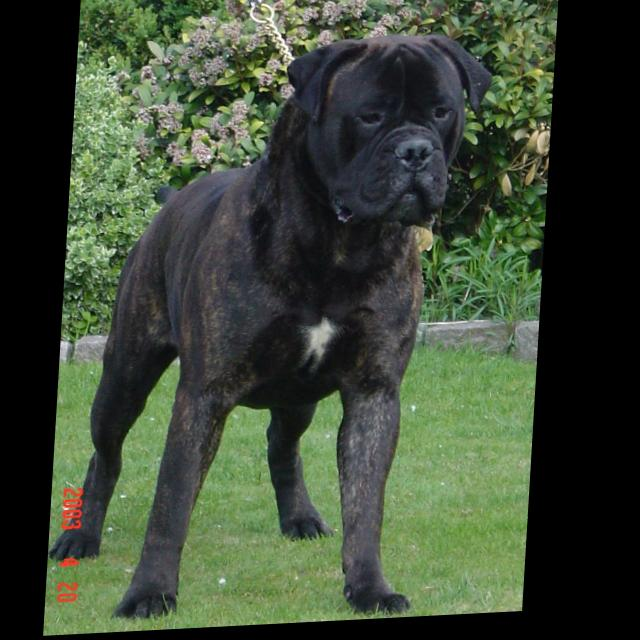bullmastiff: (51, 35, 496, 635)
